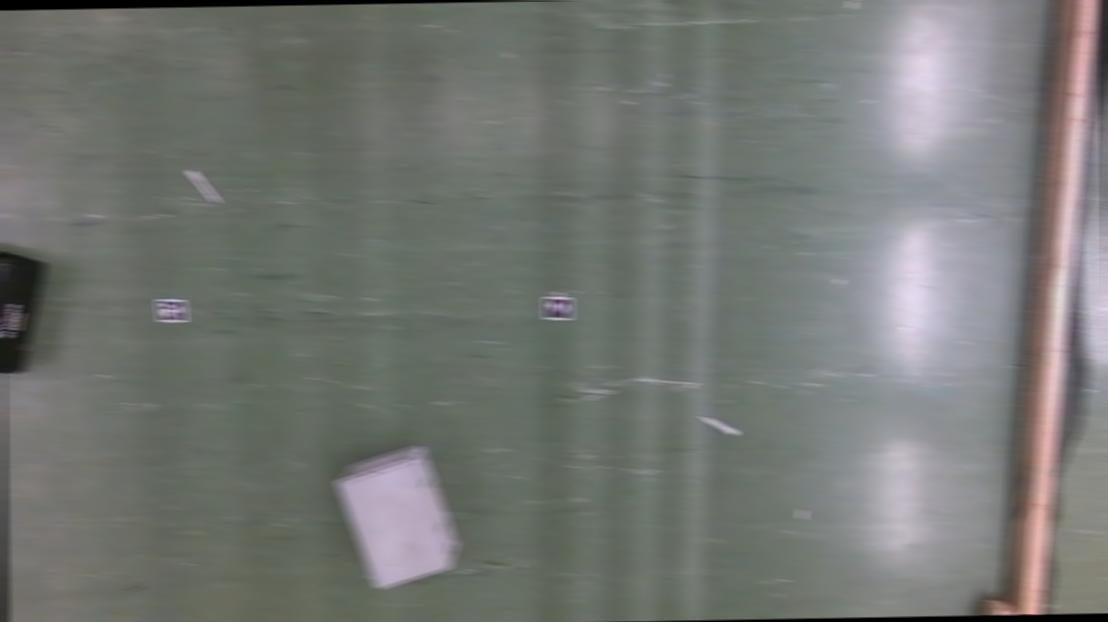probes: (188, 166, 219, 202), (703, 413, 738, 435)
rako: (334, 441, 460, 587), (0, 239, 47, 378)
